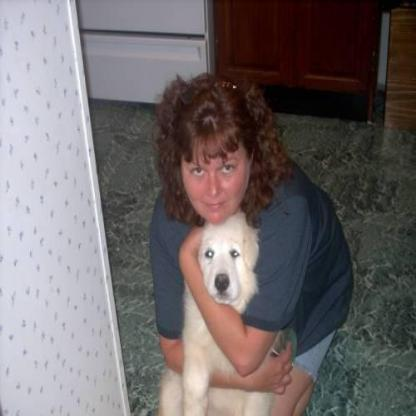kuvasz: (158, 211, 276, 414)
